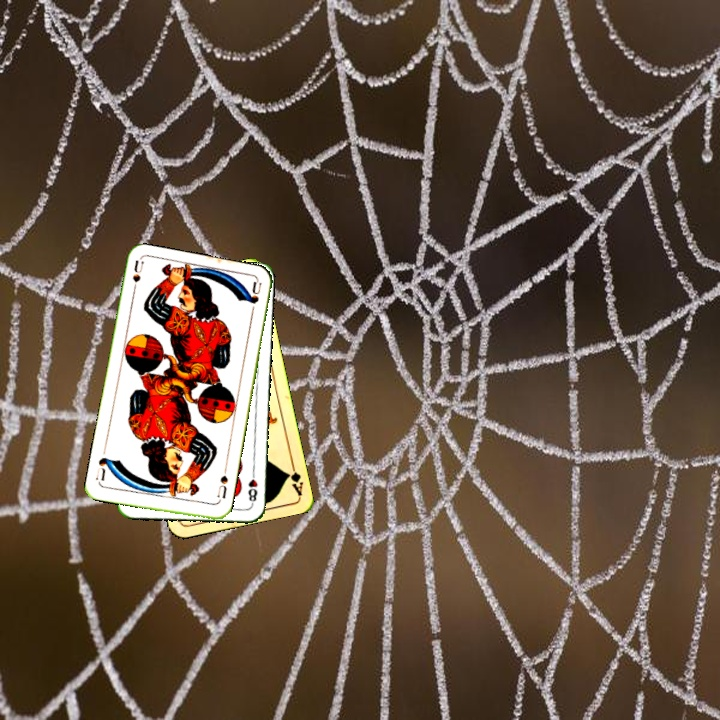GA: (283, 457, 305, 497)
H8: (244, 466, 260, 507)
SU: (128, 257, 146, 298), (213, 471, 231, 501)
